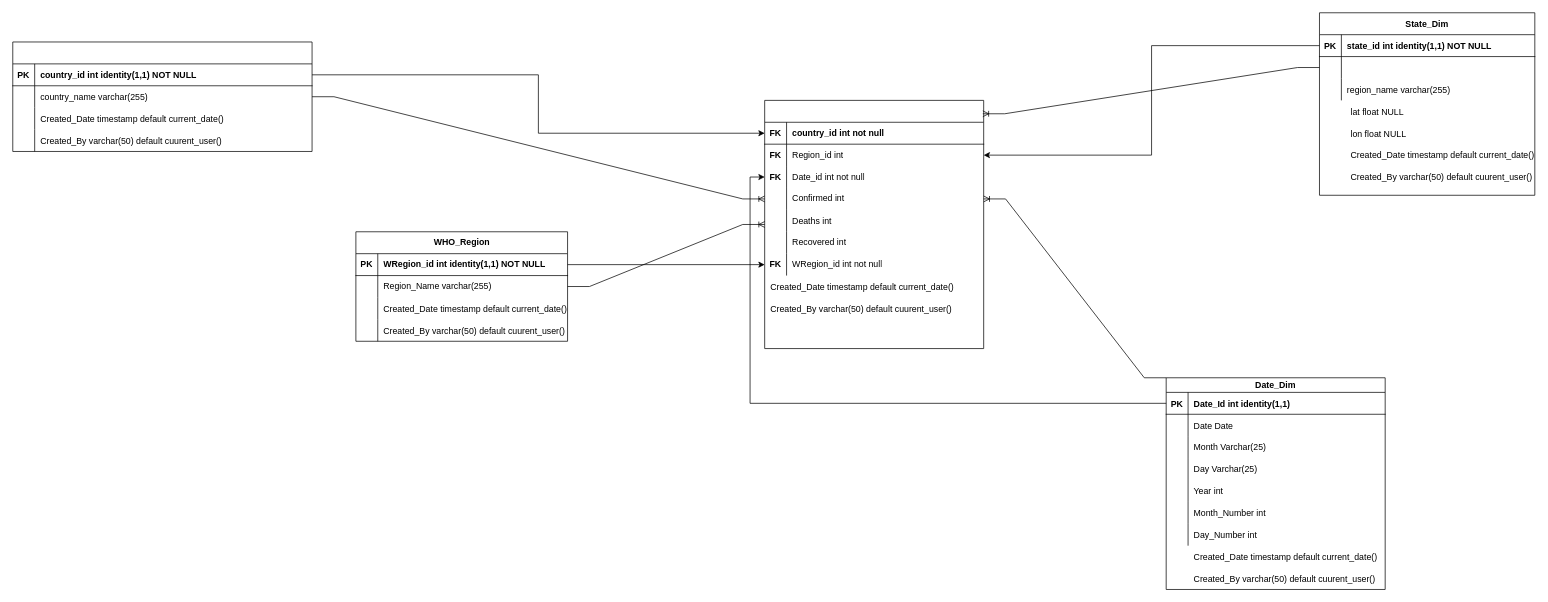
Image size: 1548x602. Some labels were removed from this diagram. The box of each missing label's shape, as (x1, y1, x2, y2) in pixels:
Cases_Group _Fact: (764, 100, 984, 349)
Country_Dim: (12, 41, 312, 151)
